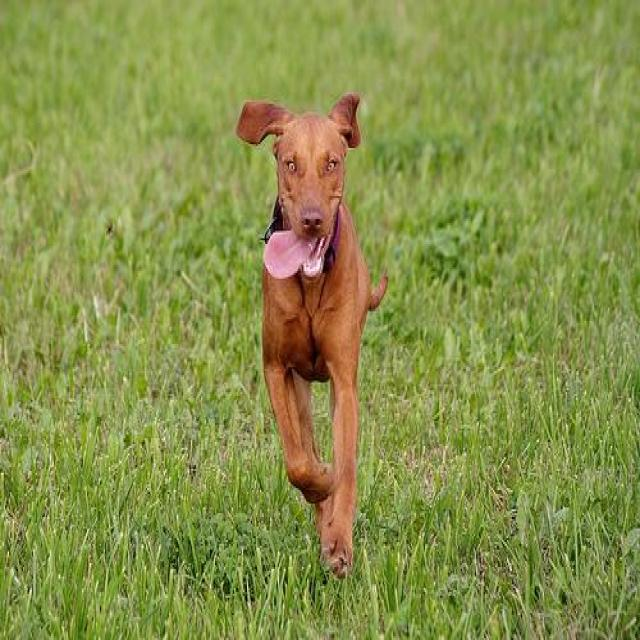vizsla: (237, 91, 390, 578)
